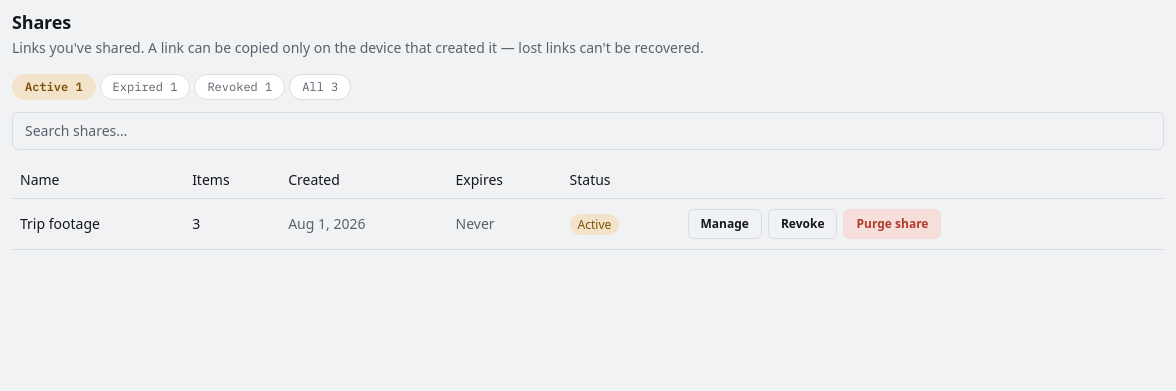
Test case: SharesSection › searches by case-insensitive title substring, ANDed with the chip
Type "TRIP" into the search field labelled "Search shares…" at (588, 131), box [12,112,1164,150]
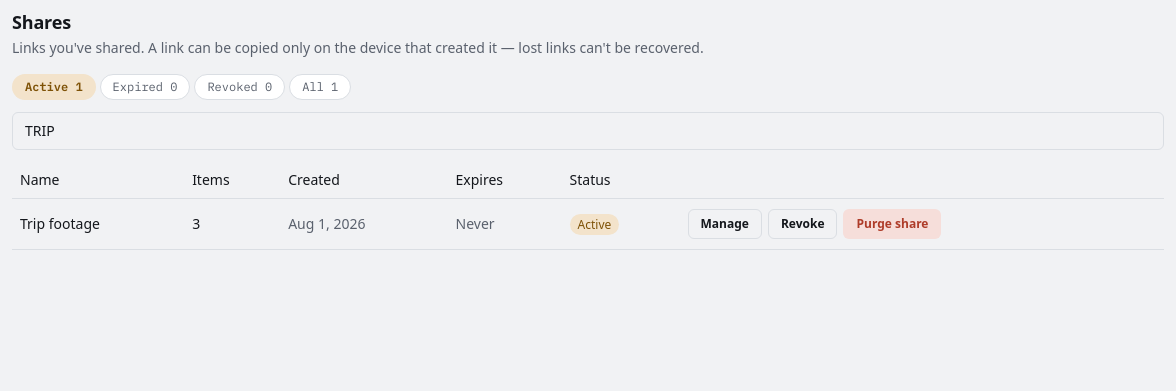
expect the text "Trip footage" is shown: met, box [12,198,184,249]
expect the text "Old share" is not shown: met
Note: A query matching only past shares empties the Active view…
Replace the text in the search field named "Search shares" with "share" at (588, 131), box [12,112,1164,150]
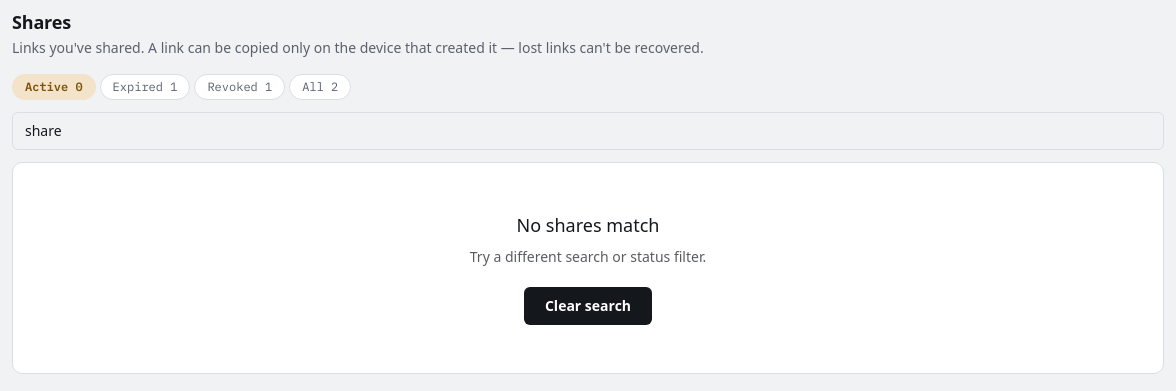
expect the text "Trip footage" is gone: met
expect the text "No shares match" is shown: met, box [517,213,659,237]
Note: …but the same query under the Revoked chip shows the revoked row.
Click the button "Revoked 1" at (240, 87), box [194,74,285,100]
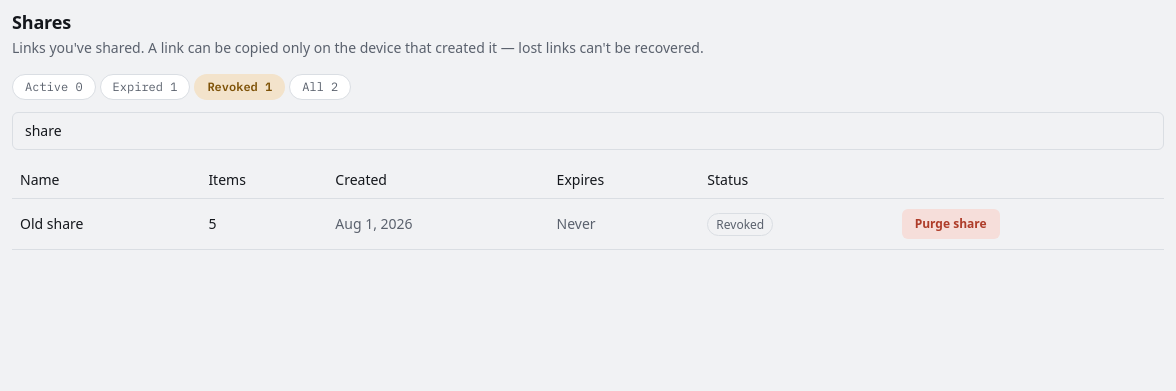
expect the text "Old share" is shown: met, box [12,198,200,249]
